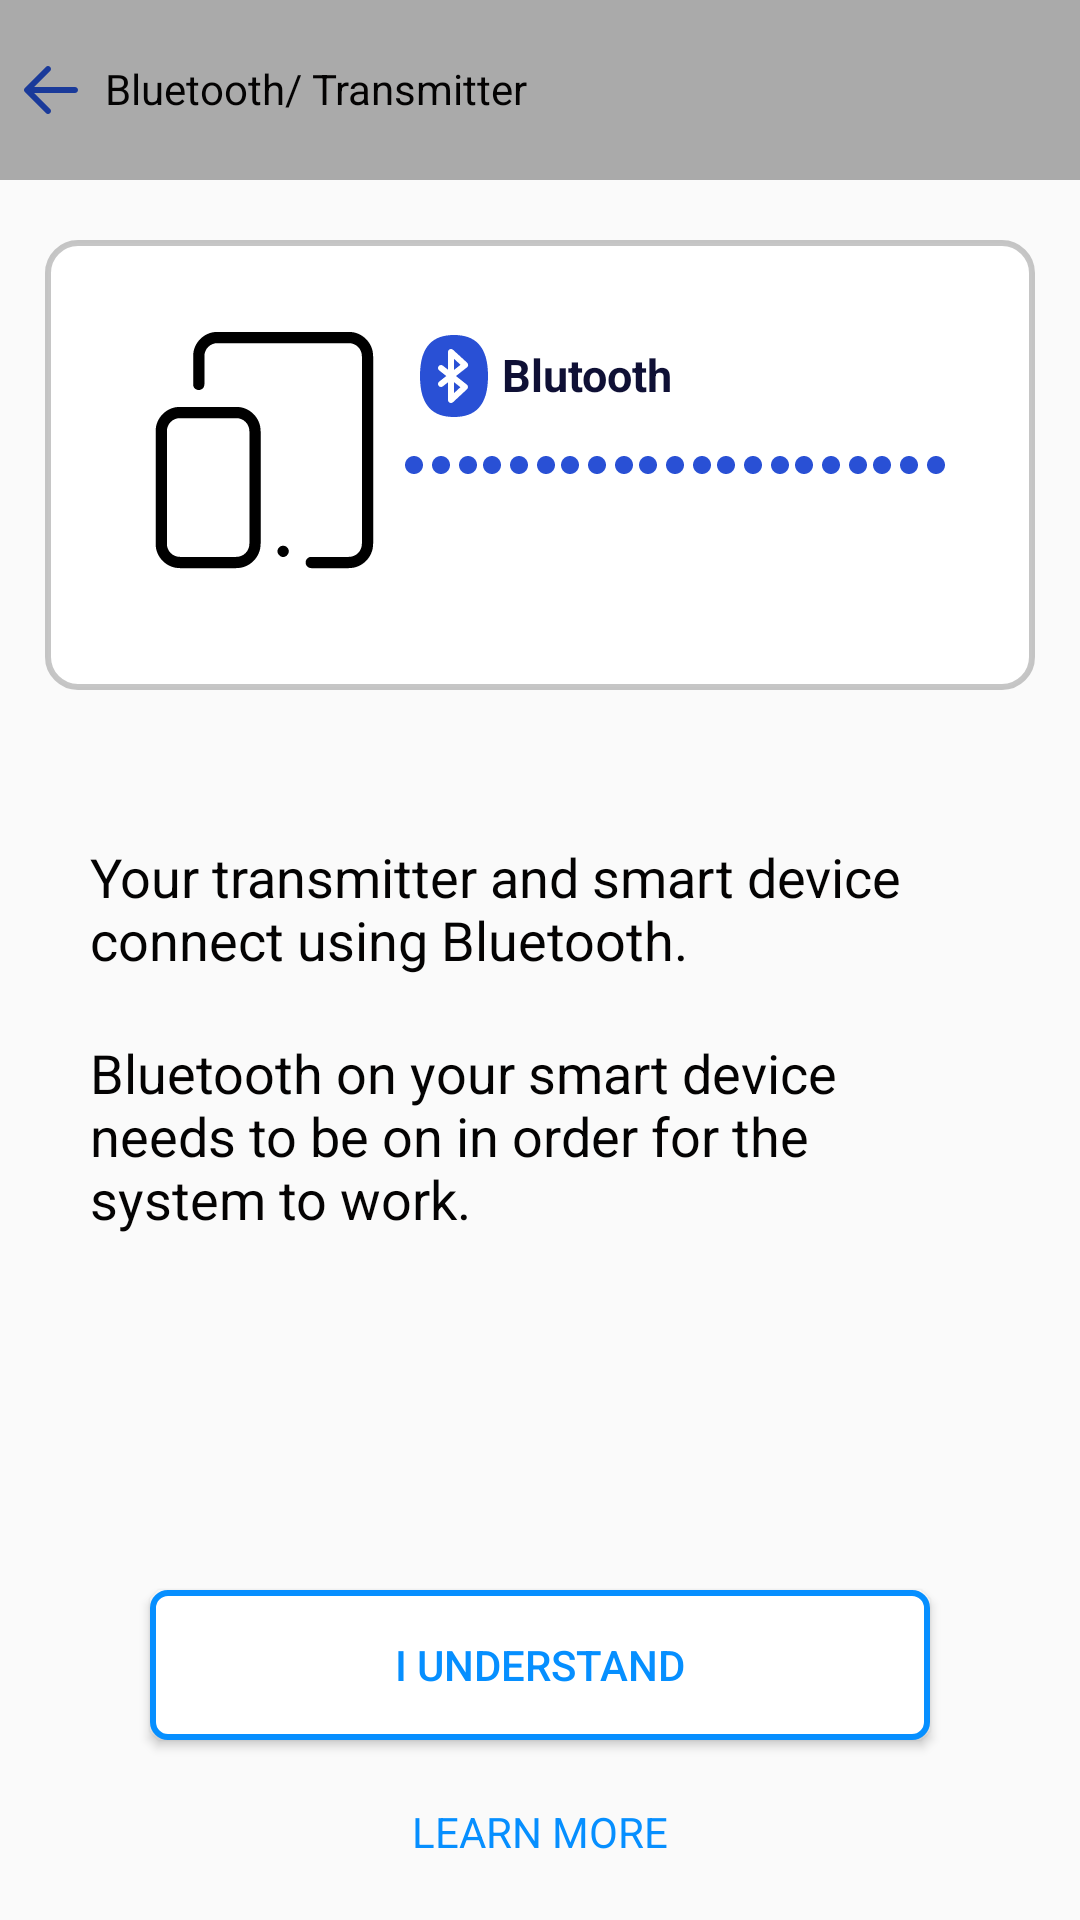

Icons on this 1080w x 1920h Android screen, each with its box as Rect(x1, y1, x2, y2):
left: Rect(24, 66, 78, 114)
smartphone tablet: Rect(155, 332, 374, 569)
